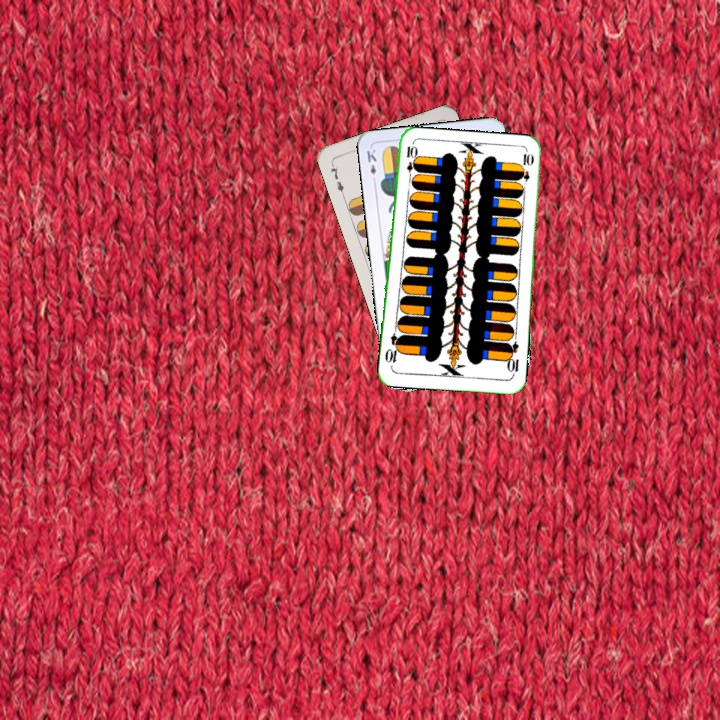E10: (503, 338, 521, 379), (402, 142, 417, 182)
E7: (326, 159, 347, 199)
EK: (363, 145, 379, 186)
